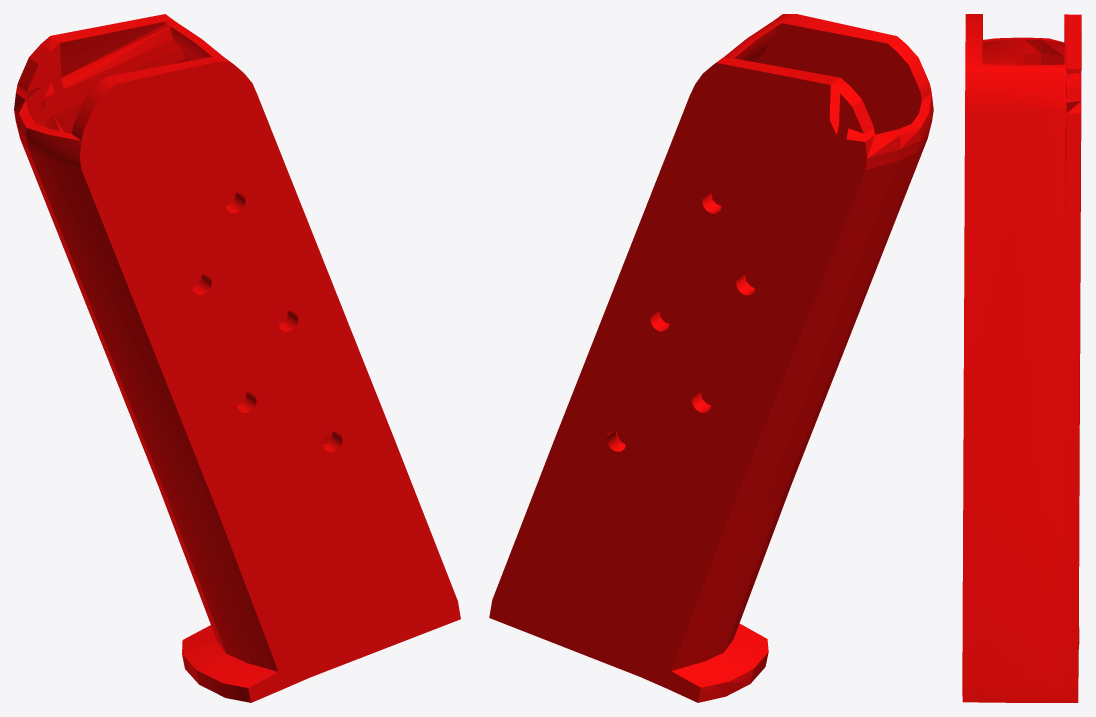
The model's file is mag.fbx.
3 renders of one model, left to right at view 1: azimuth 30°, elevation 25°; view 2: azimuth 150°, elevation 25°; view 3: azimuth 270°, elevation 25°, orthographic. The views are drawn at different scales.
Parts seen in each view (by area): view 1: Mag001; view 2: Mag001; view 3: Mag001.
Boxes of the visible parts, x1,y1,x2,y2 form: Mag001: (14,14,460,702); Mag001: (489,14,933,702); Mag001: (962,14,1081,702).
Bounding box in the file's own units: 60.77 × 94.3 × 17.84.
